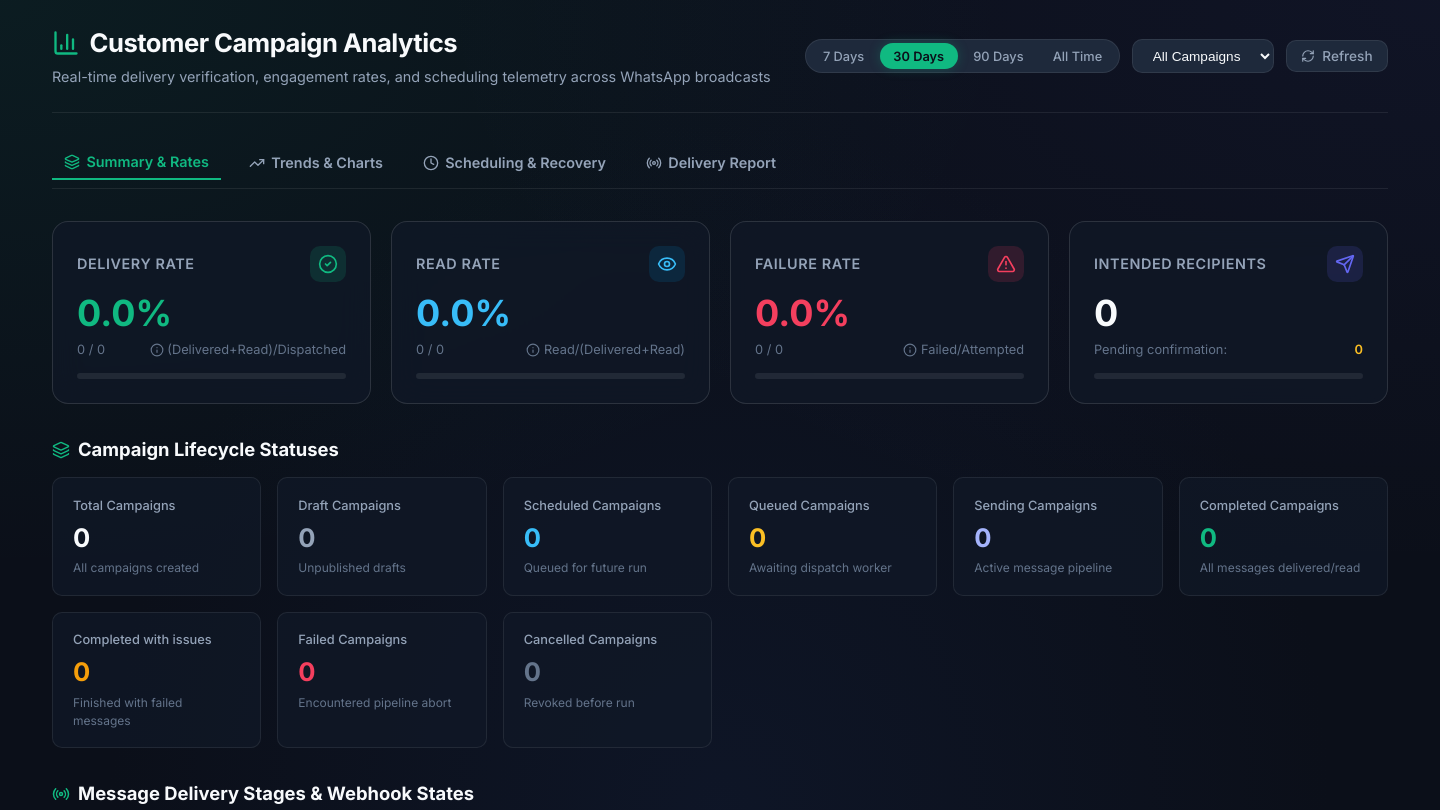
Scenario: AnalyticsPage Frontend Component › renders recipient-level delivery report with masked phone numbers and privacy shield
Note: Switch to Delivery Report tab
Click the button "Delivery Report" at (711, 162), box [634,146,788,179]
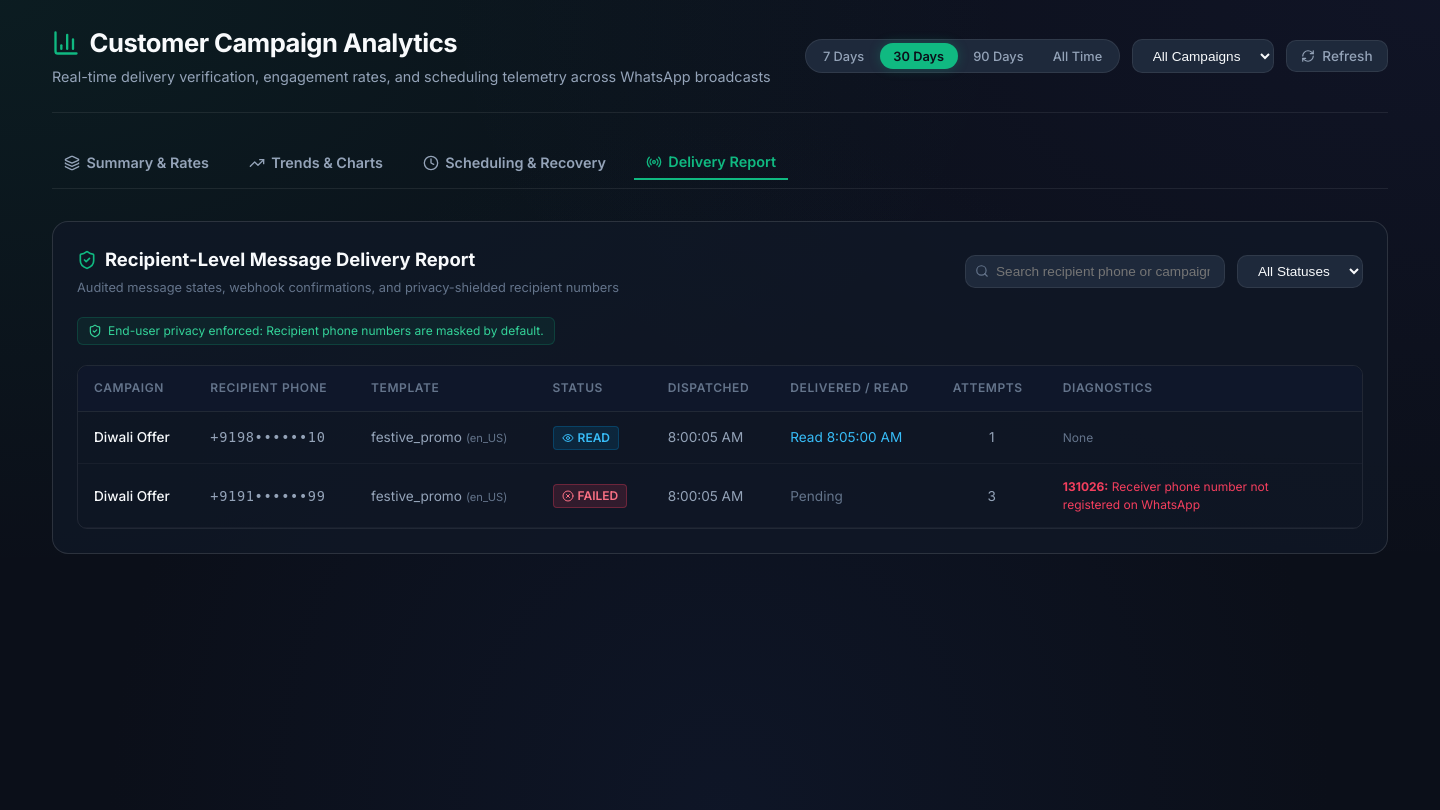
expect the element with test id "delivery-report-section" is shown: met, box [52,221,1388,554]
expect the text "+9198••••••10" is shown: met, box [194,412,355,464]
expect the text "+9191••••••99" is shown: met, box [194,464,355,528]
